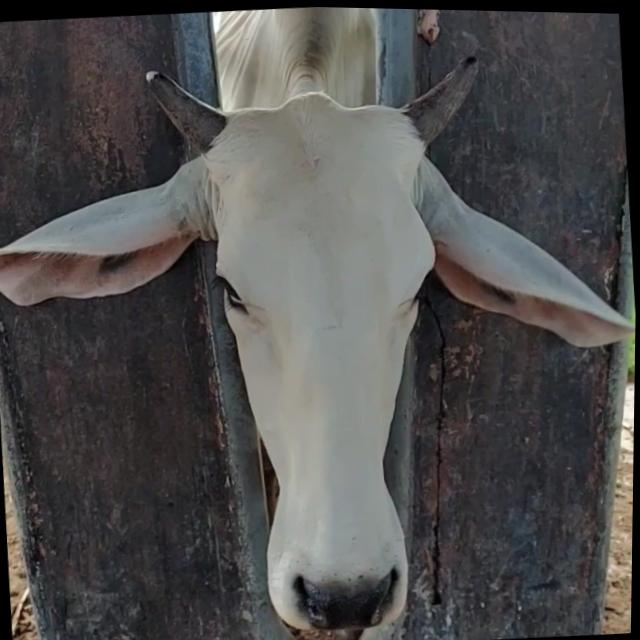cowFace: (201, 82, 462, 635)
